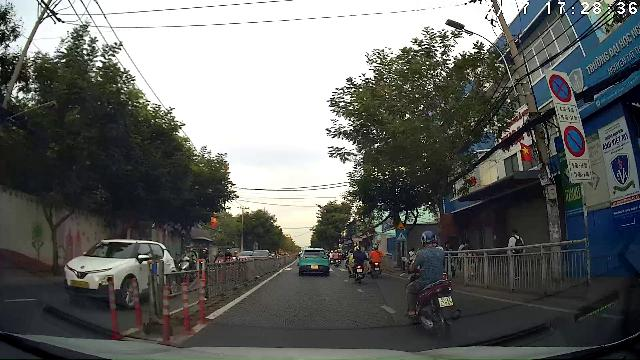130-cam-dung-va-do-xe: (548, 74, 572, 103)
131a-cam-do-xe: (563, 125, 586, 158)
